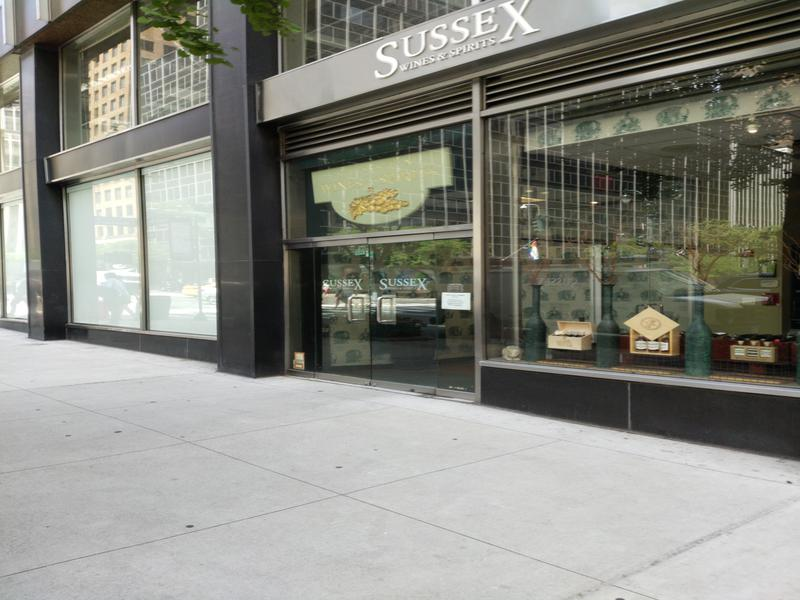double_door: (311, 236, 442, 397)
